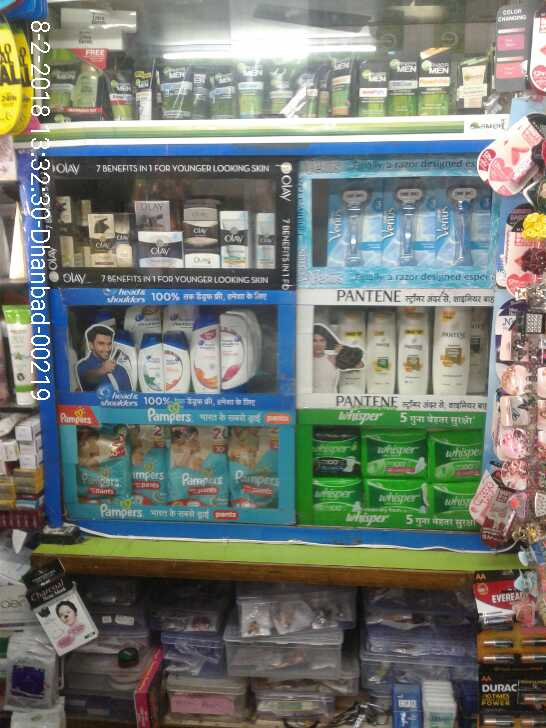venus: (436, 176, 492, 270), (381, 176, 436, 265), (327, 179, 382, 265)
